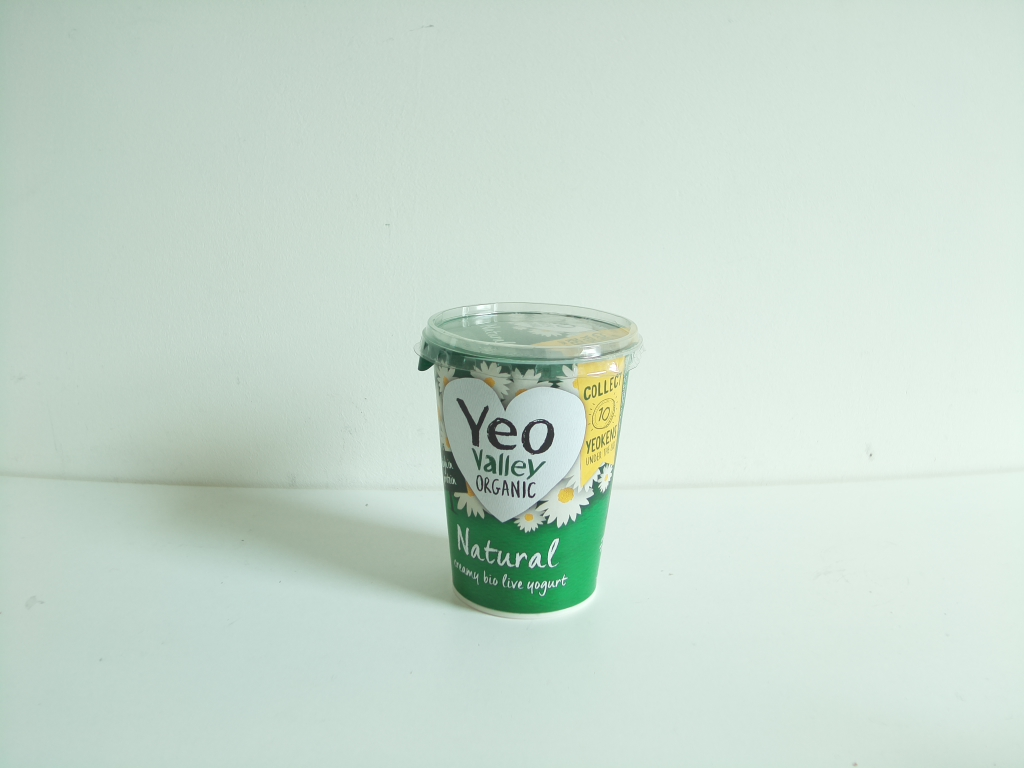yogurt: (412, 298, 638, 621)
